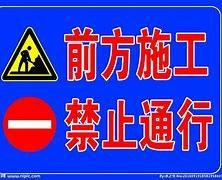sign: (1, 6, 219, 167)
